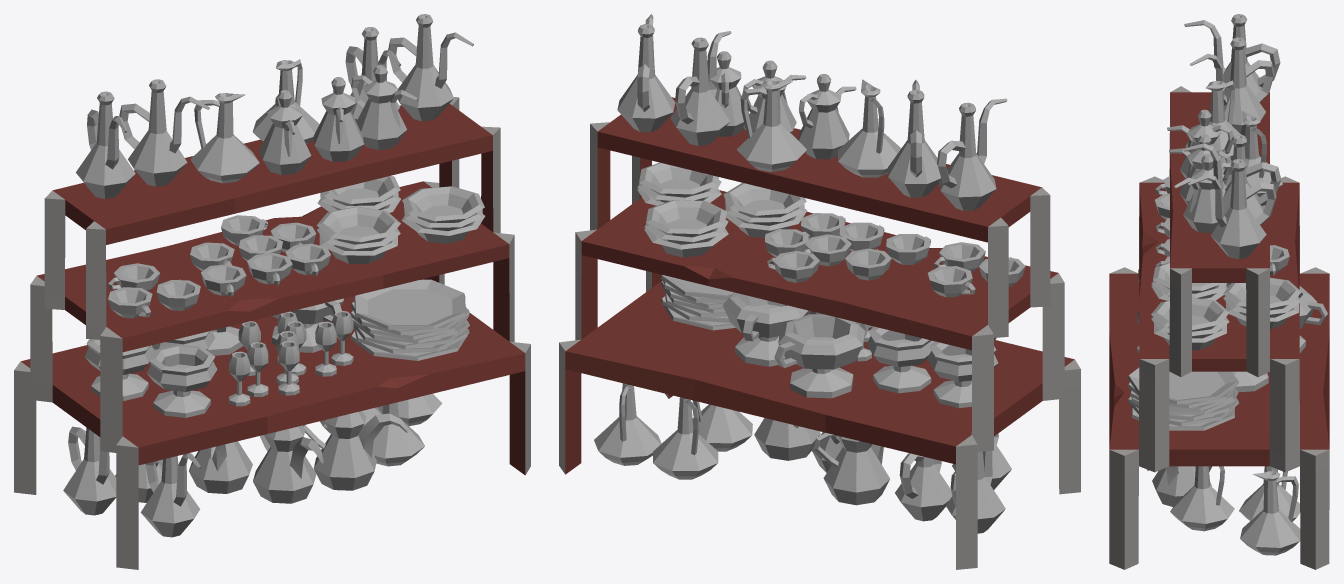
Rendered from SM_Prop_Shelves_Preset_01.fbx.
3 renders of one model, left to right at view 1: azimuth 30°, elevation 25°; view 2: azimuth 150°, elevation 25°; view 3: azimuth 270°, elevation 25°, orthographic. The views are drawn at different scales.
Visible parts, largest first — view 1: SM_Prop_Shelves_Preset_01; view 2: SM_Prop_Shelves_Preset_01; view 3: SM_Prop_Shelves_Preset_01.
Part boxes in pixels (box(x1,y1,x2,y2)): SM_Prop_Shelves_Preset_01: box(14, 14, 530, 569); SM_Prop_Shelves_Preset_01: box(559, 14, 1080, 569); SM_Prop_Shelves_Preset_01: box(1109, 14, 1329, 569).
Size of the model in its own units: 239 by 229 by 118.
